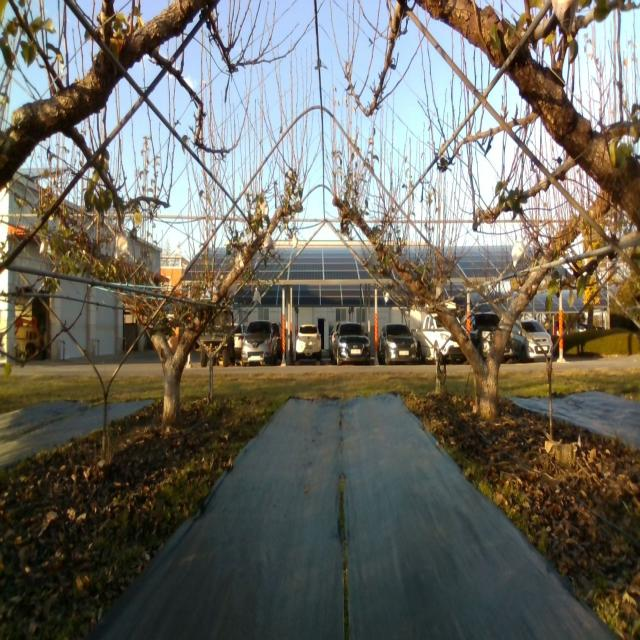pearbags: (114, 231, 130, 265), (512, 241, 526, 266)
